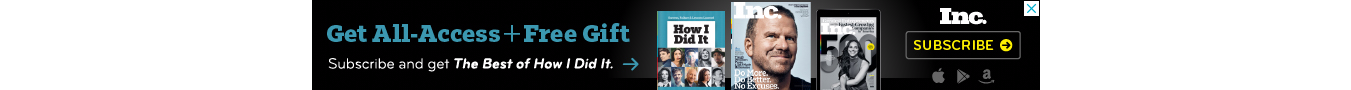fake_button: (896, 28, 1038, 62)
